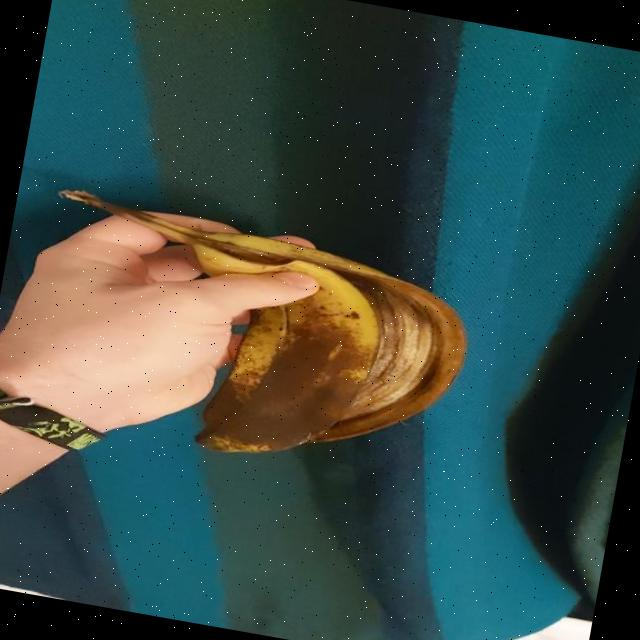banana-peel: (16, 182, 482, 490)
